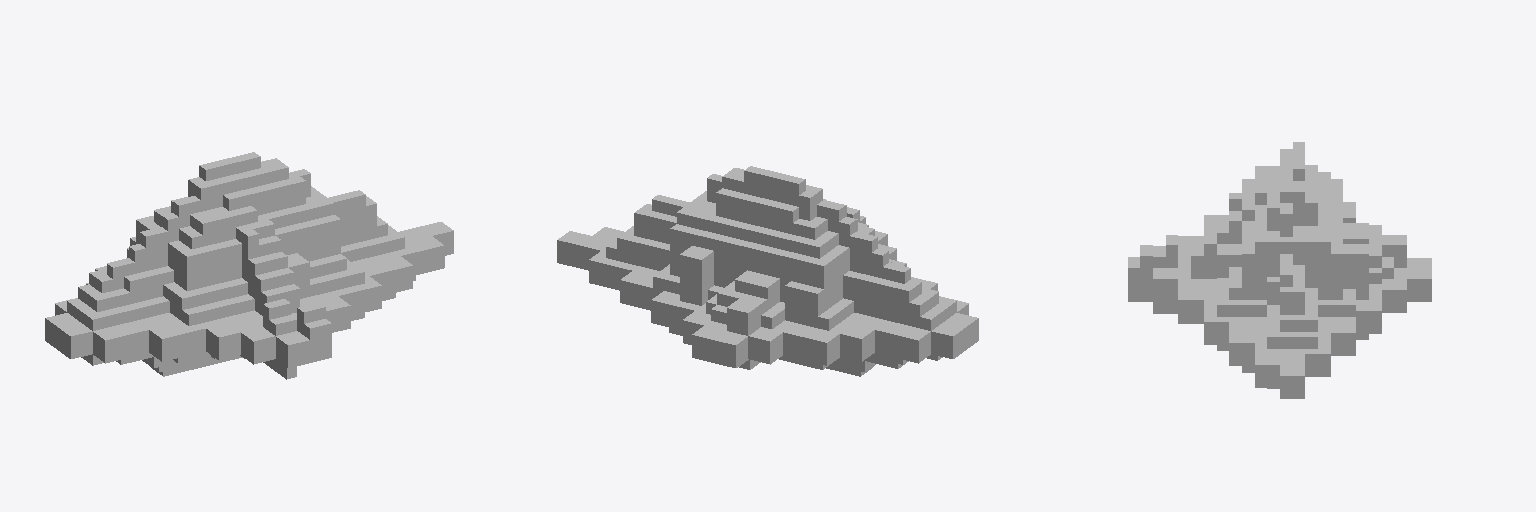
The model's file is Ice 5.obj.
3 views of the same model, side by side, from view 1: azimuth 30°, elevation 25°; view 2: azimuth 150°, elevation 25°; view 3: azimuth 270°, elevation 25° (orthographic).
Parts seen in each view (by area): view 1: object 1; view 2: object 1; view 3: object 1.
Boxes of the visible parts, x1,y1,x2,y2 form: object 1: [45, 152, 453, 379]; object 1: [557, 166, 978, 376]; object 1: [1128, 142, 1431, 398].
Bounding box in the file's own units: 3.6 × 1.6 × 2.4.